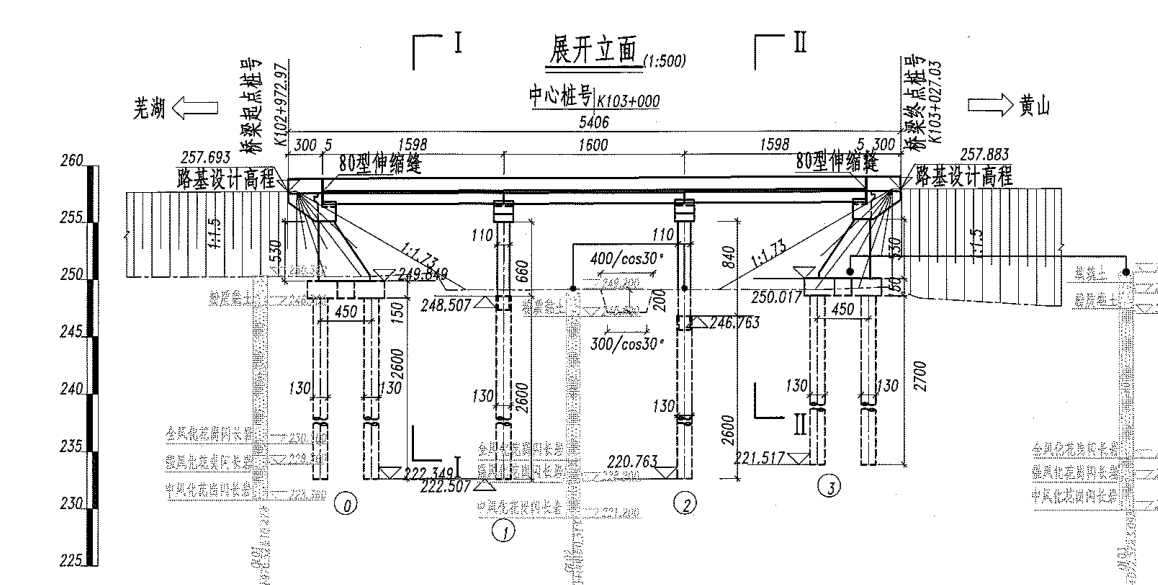A: (284, 113, 909, 136)
C: (597, 196, 712, 519), (748, 259, 887, 507), (434, 198, 528, 543)
